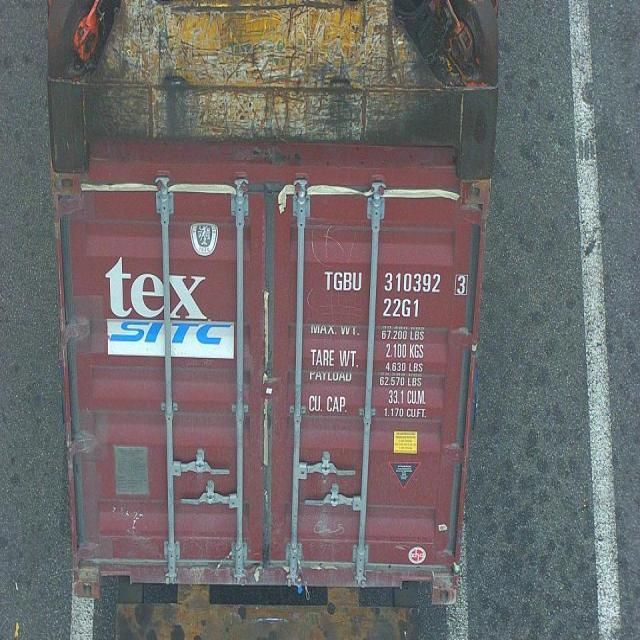ISO: (380, 295, 420, 319)
container_number: (322, 269, 474, 298)
